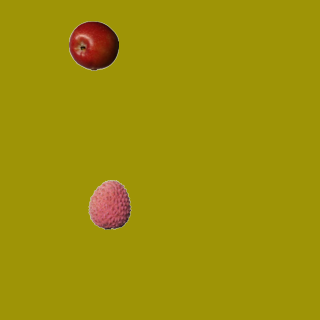Apple Braeburn: (68, 20, 118, 70)
Lychee: (84, 179, 134, 229)
